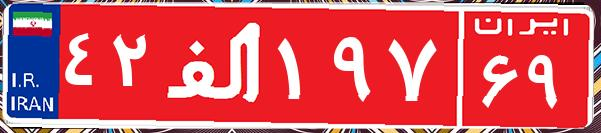1: (273, 28, 330, 110)
2: (110, 28, 158, 105)
4: (57, 26, 110, 107)
6: (475, 38, 525, 113)
7: (385, 28, 445, 110)
9: (330, 28, 385, 110), (525, 38, 570, 115)
الف: (158, 15, 273, 115)
